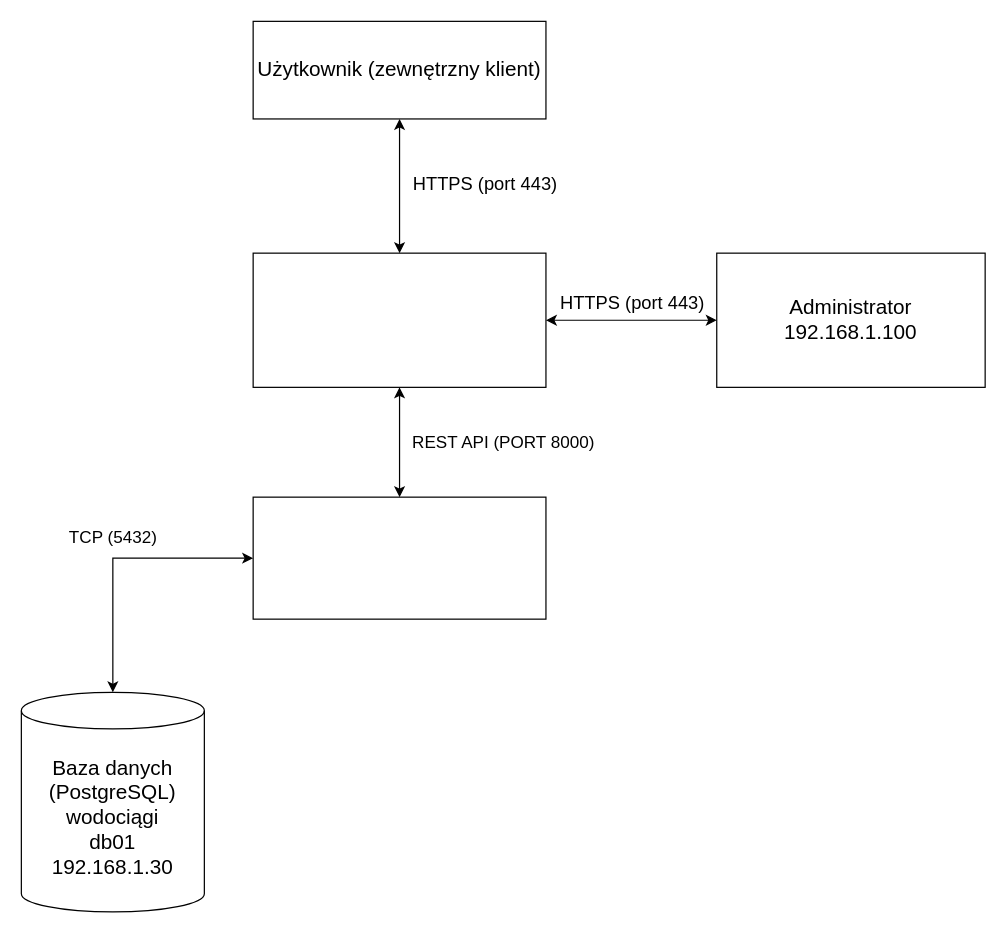
The diagram is 1007 pixels wide and 933 high, and some of its shapes have lost their labels. Each missing label, with the centre of its shape:
Aplikacja Webowa (React) web01 192.168.1.10: the point at 399,319
Serwer Aplikacji (Python / Django) app01 192.168.1.20: the point at 399,557
